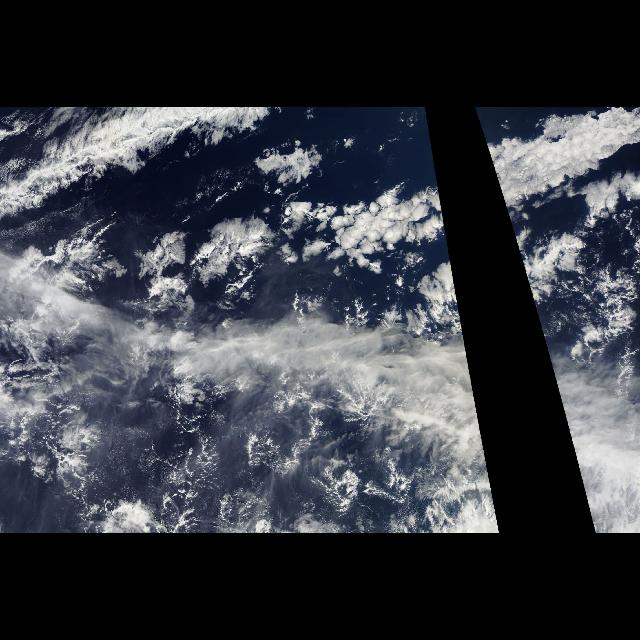Fish: (2, 108, 266, 225), (476, 112, 640, 238), (336, 112, 446, 238)
Flower: (35, 111, 463, 326), (476, 111, 638, 326)
Gravel: (128, 406, 398, 510)
